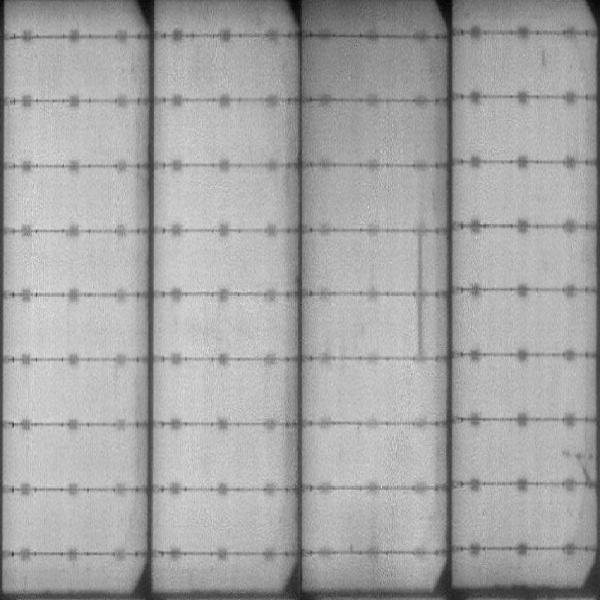scratch: (413, 224, 424, 359), (559, 444, 598, 479)
